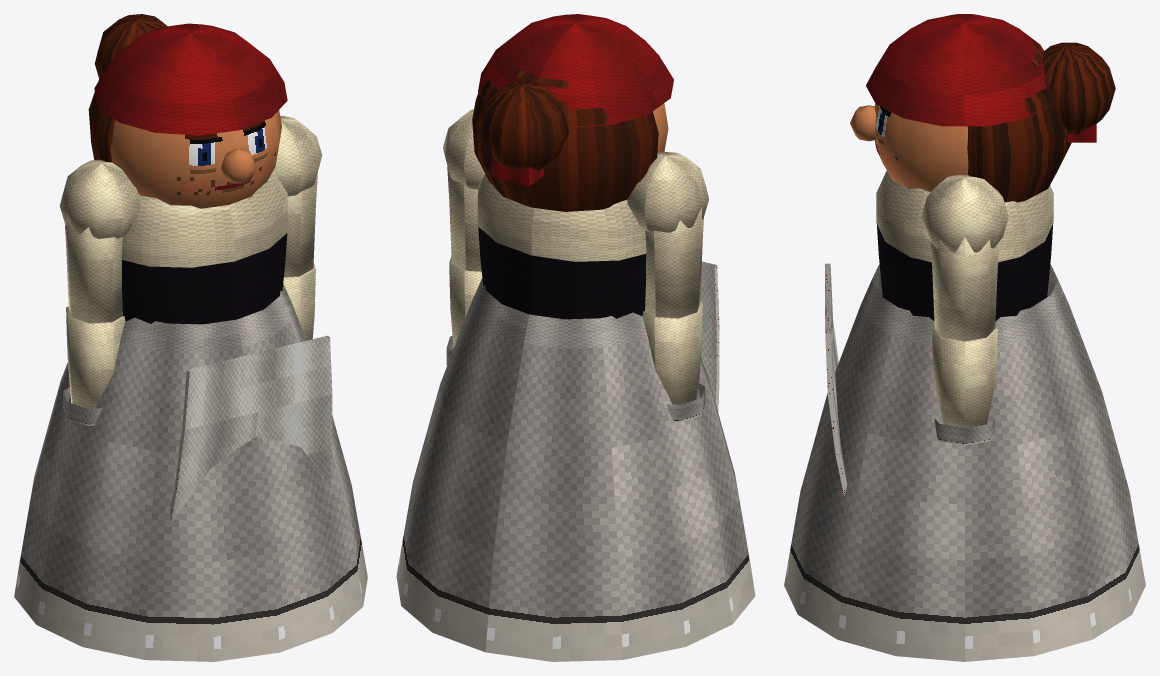
The model's file is npc_frau.glb.
The picture shows the model from 3 angles, left to right: view 1: azimuth 30°, elevation 25°; view 2: azimuth 150°, elevation 25°; view 3: azimuth 270°, elevation 25°; orthographic projection.
Visible parts, largest first — view 1: skirt, apron, scarf, head, blouse, bodice, upper-1, shoulder-1, fore-1, shoulder1, upper1, bun (+4 smaller); view 2: skirt, scarf, hairB, bodice, blouse, bun, upper-1, shoulder-1, fore-1, upper1, apron, shoulder1 (+3 smaller); view 3: skirt, scarf, hairB, bodice, blouse, upper1, head, fore1, shoulder1, bun, apron, cuff1 (+1 smaller).
Boxes of the visible parts, x1=… form: skirt: x1=14, y1=284, x2=367, y2=661; apron: x1=170, y1=335, x2=332, y2=523; scarf: x1=94, y1=23, x2=287, y2=135; head: x1=110, y1=110, x2=281, y2=208; blouse: x1=121, y1=170, x2=287, y2=267; bodice: x1=122, y1=233, x2=287, y2=324; upper-1: x1=65, y1=214, x2=122, y2=323; shoulder-1: x1=60, y1=159, x2=140, y2=239; fore-1: x1=66, y1=306, x2=125, y2=408; shoulder1: x1=274, y1=116, x2=321, y2=196; upper1: x1=284, y1=172, x2=317, y2=277; bun: x1=94, y1=14, x2=167, y2=78; skirt: x1=396, y1=278, x2=755, y2=661; scarf: x1=478, y1=14, x2=673, y2=127; hairB: x1=472, y1=69, x2=658, y2=211; bodice: x1=478, y1=226, x2=646, y2=319; blouse: x1=477, y1=174, x2=646, y2=261; bun: x1=478, y1=80, x2=569, y2=170; upper-1: x1=645, y1=207, x2=703, y2=318; shoulder-1: x1=627, y1=151, x2=708, y2=232; fore-1: x1=642, y1=301, x2=702, y2=404; upper1: x1=447, y1=164, x2=481, y2=271; apron: x1=700, y1=261, x2=719, y2=411; shoulder1: x1=443, y1=109, x2=485, y2=189; skirt: x1=784, y1=264, x2=1145, y2=661; scarf: x1=866, y1=14, x2=1054, y2=126; hairB: x1=967, y1=38, x2=1071, y2=202; bodice: x1=877, y1=224, x2=1052, y2=320; blouse: x1=876, y1=170, x2=1053, y2=262; upper1: x1=930, y1=237, x2=999, y2=341; head: x1=874, y1=104, x2=968, y2=191; fore1: x1=932, y1=326, x2=997, y2=427; shoulder1: x1=921, y1=175, x2=1008, y2=252; bun: x1=1043, y1=42, x2=1115, y2=134; apron: x1=825, y1=263, x2=847, y2=495; cuff1: x1=934, y1=418, x2=995, y2=445.
Size of the model in its own units: 1.32 by 2.39 by 1.32.
Materials: 9 (9 with a texture image).
